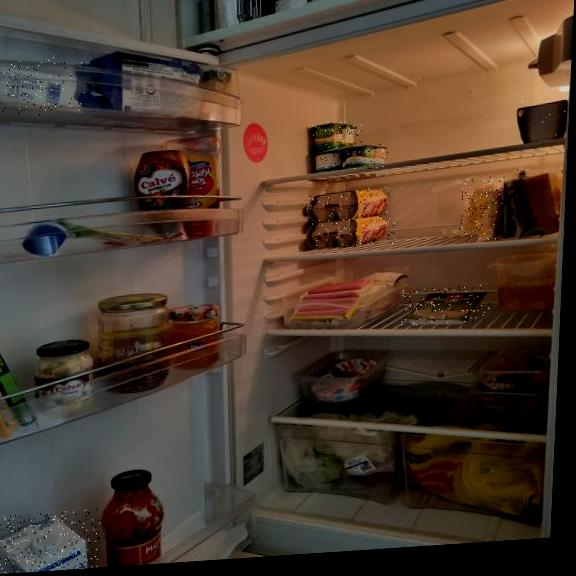butter: (0, 55, 87, 118)
cheese: (401, 284, 491, 326), (459, 176, 507, 242)
eggs: (307, 215, 396, 250), (308, 187, 390, 224)
milk: (0, 509, 101, 575)
yoghurt: (516, 97, 570, 146), (314, 144, 390, 172), (310, 120, 362, 152)
